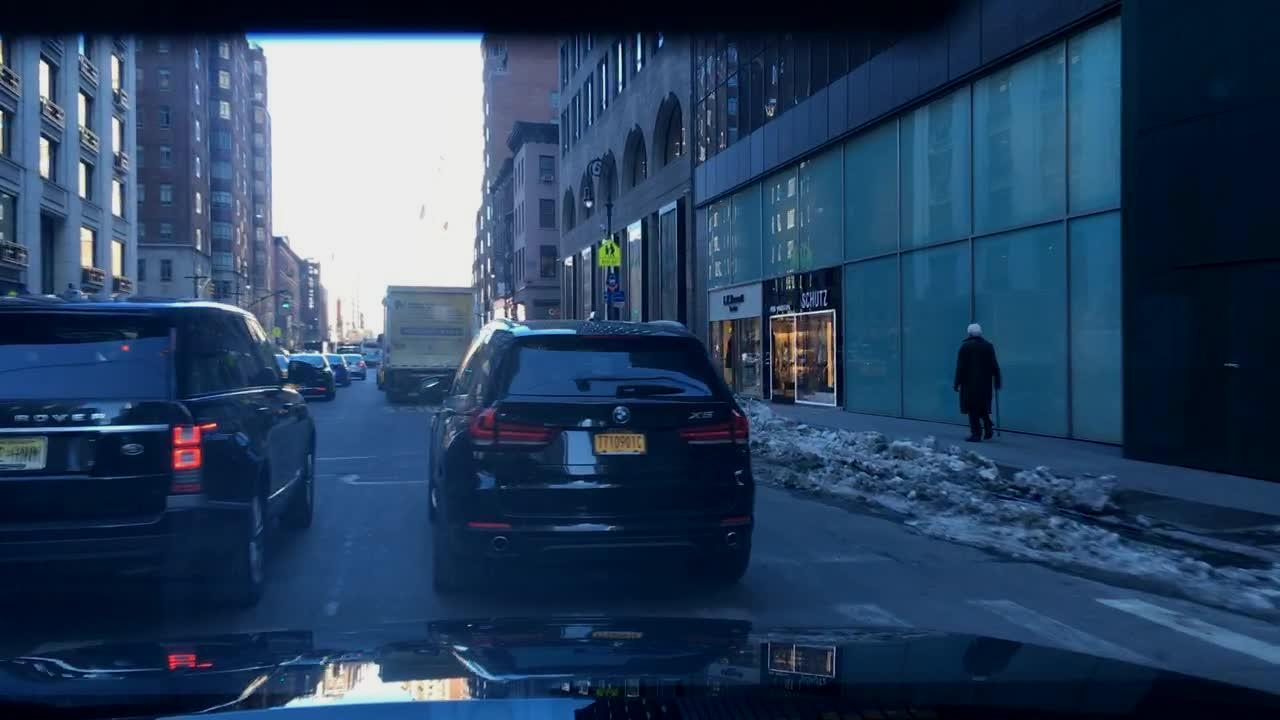bmw: (595, 395, 646, 441)
